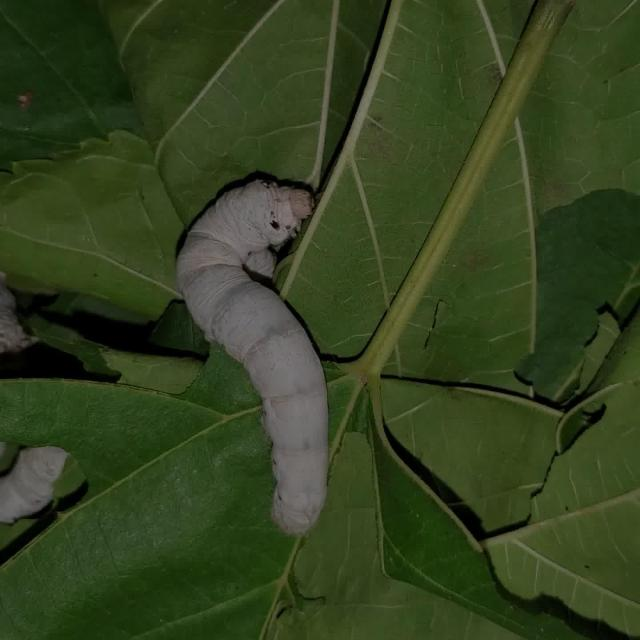Healthy: (140, 126, 374, 551)
